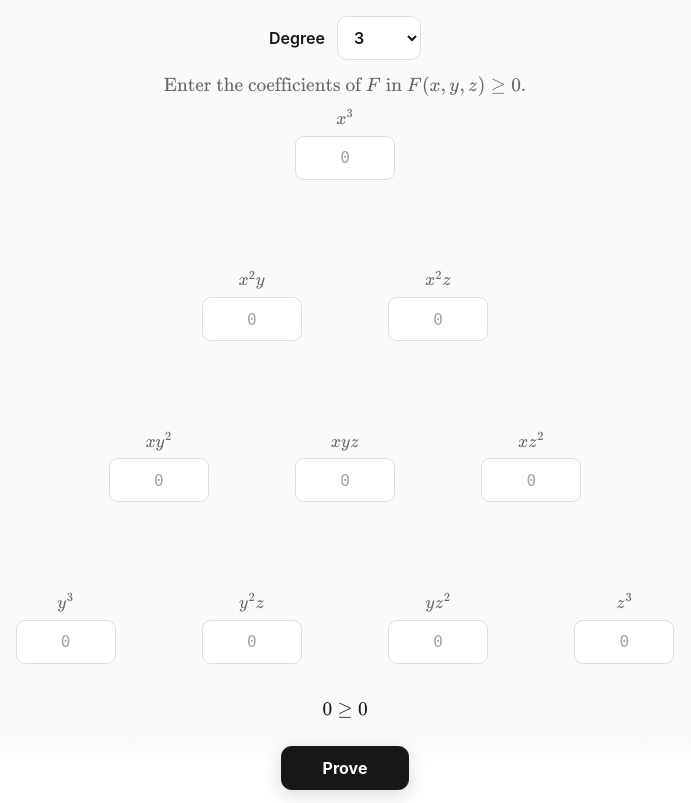
coefficient proof workflow › focuses the first invalid exact coefficient without sending a request
In the field named "Coefficient of x to the power 3": (345, 158) [295,136,395,180], type "0.5"
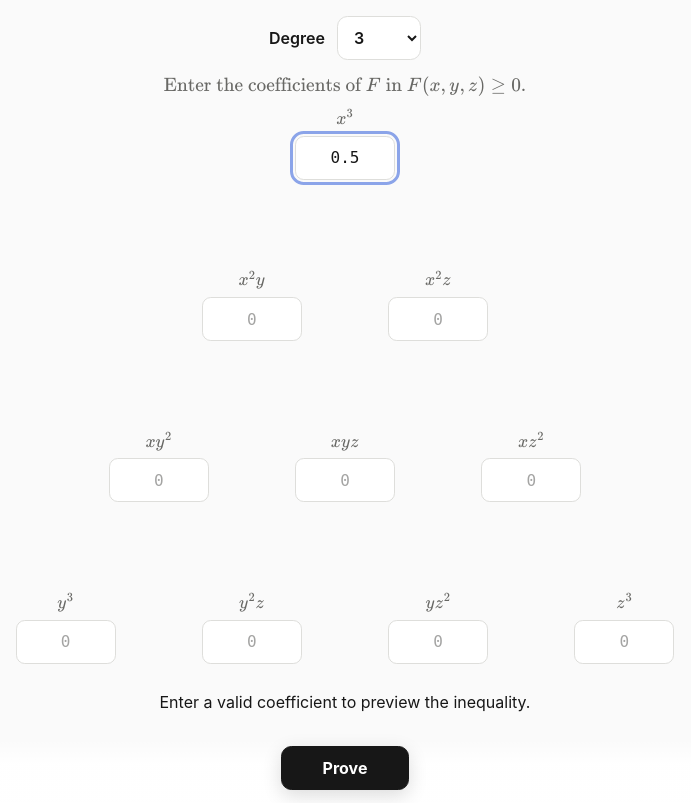
Click the button "Prove": (345, 768) [281,746,409,790]
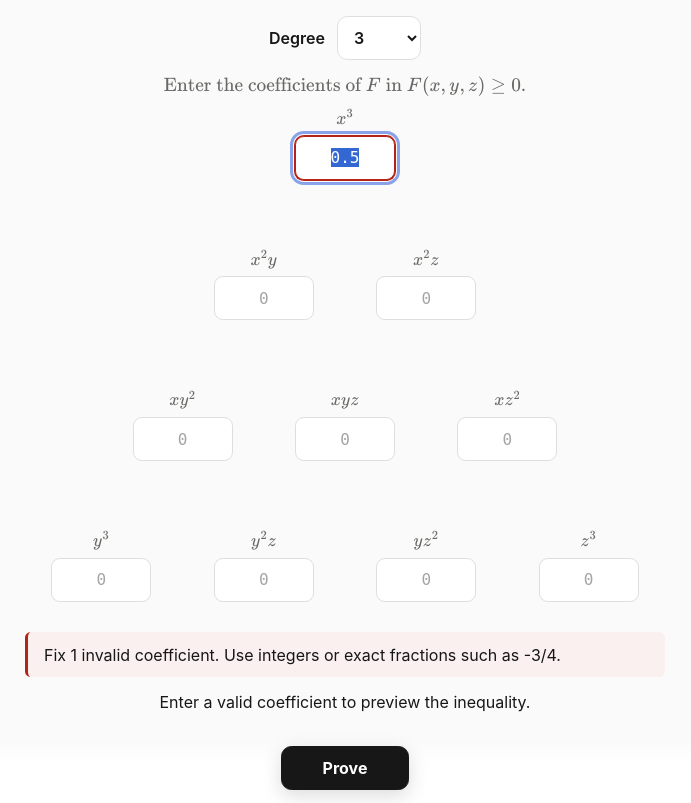
Expected: the message shows "Fix 1 invalid coefficient", [25,632,665,677]
